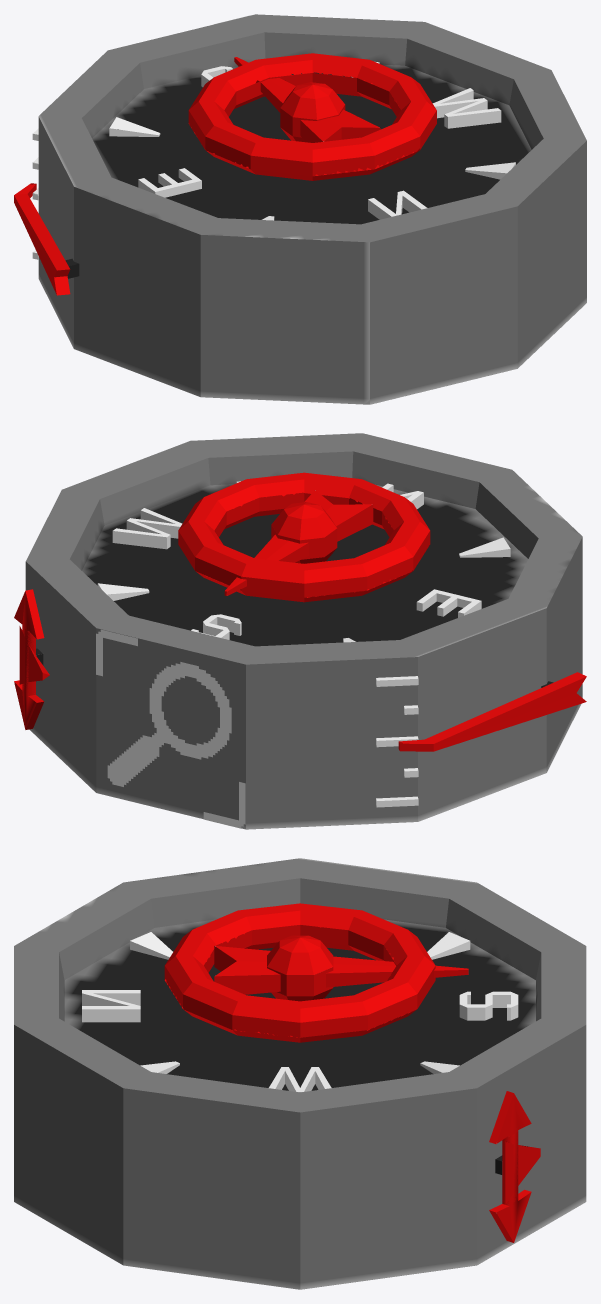
The model's file is compass.obj.
The picture shows the model from 3 angles, top to bottom: view 1: azimuth 30°, elevation 25°; view 2: azimuth 150°, elevation 25°; view 3: azimuth 270°, elevation 25°; orthographic projection. The views are drawn at different scales.
Visible parts, largest first — view 1: body, arrow_3, dial, arrow_0, arrow_1; view 2: body, arrow_3, fase, dial, arrow_0, arrow_1, arrow_22, arrow_21, arrow_20; view 3: body, arrow_3, arrow_0, dial, arrow_21, arrow_22, arrow_20.
Part boxes in pixels (x1,y1,x2,y2): body: [32, 14, 586, 404]; arrow_3: [188, 53, 436, 180]; dial: [109, 62, 515, 220]; arrow_0: [234, 57, 380, 142]; arrow_1: [14, 183, 79, 295]; body: [25, 433, 582, 829]; arrow_3: [178, 472, 430, 602]; fase: [96, 629, 245, 828]; dial: [97, 481, 510, 642]; arrow_0: [224, 490, 373, 595]; arrow_1: [398, 672, 586, 751]; arrow_22: [14, 626, 44, 729]; arrow_21: [14, 589, 44, 691]; arrow_20: [19, 626, 49, 684]; body: [14, 858, 586, 1289]; arrow_3: [164, 903, 435, 1042]; arrow_0: [214, 935, 468, 1001]; dial: [82, 932, 518, 1092]; arrow_21: [489, 1091, 531, 1203]; arrow_22: [489, 1132, 531, 1242]; arrow_20: [502, 1141, 540, 1204].
Bounding box in the file's own units: 2.12 × 0.825 × 1.9.
